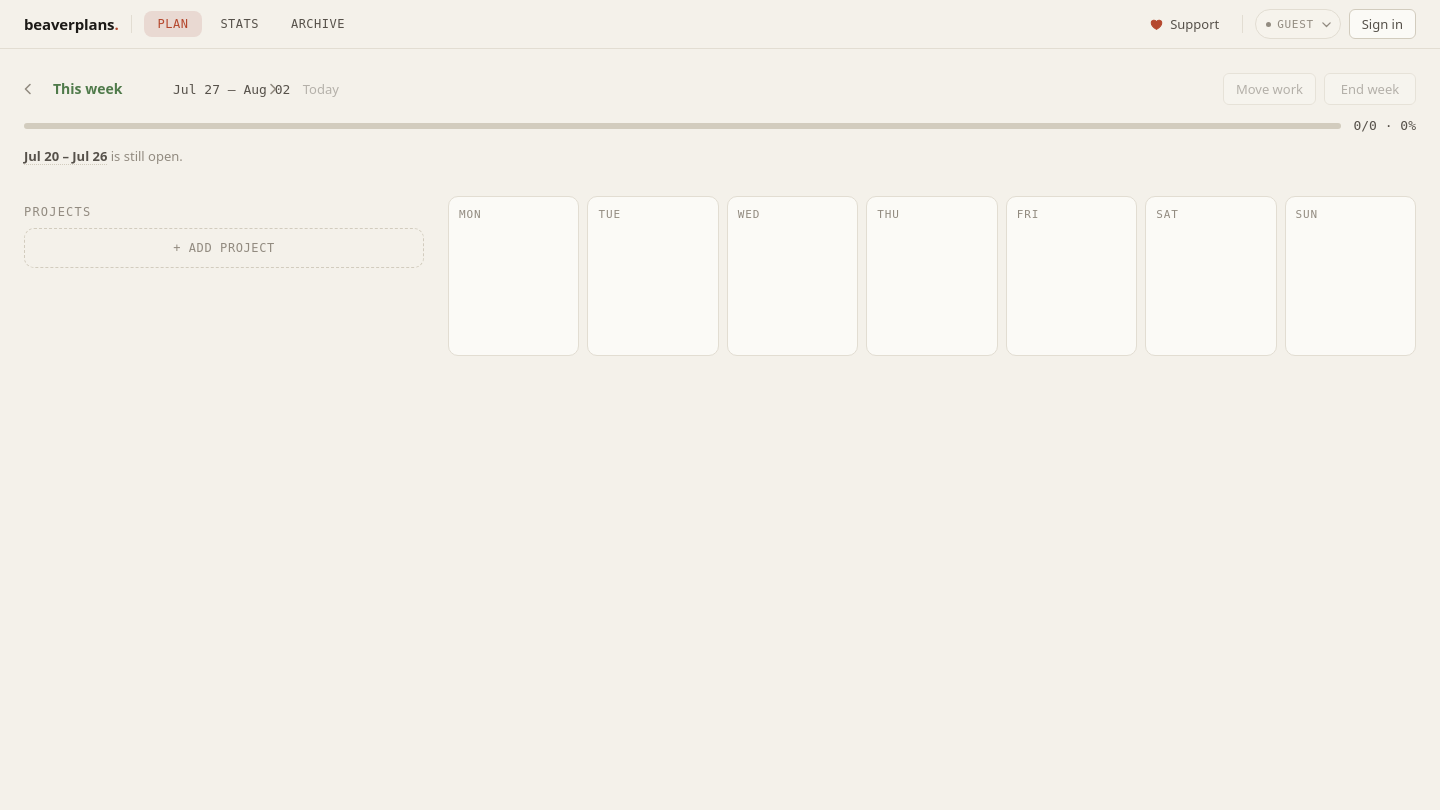
App under the weeks model › stepping back onto the earlier open week makes End week and Move live
Expected: the button with aria-label "Go to Jul 20" is shown, [24,147,107,167]
Click the button named "Previous week" at (28, 89), box [15,76,41,102]
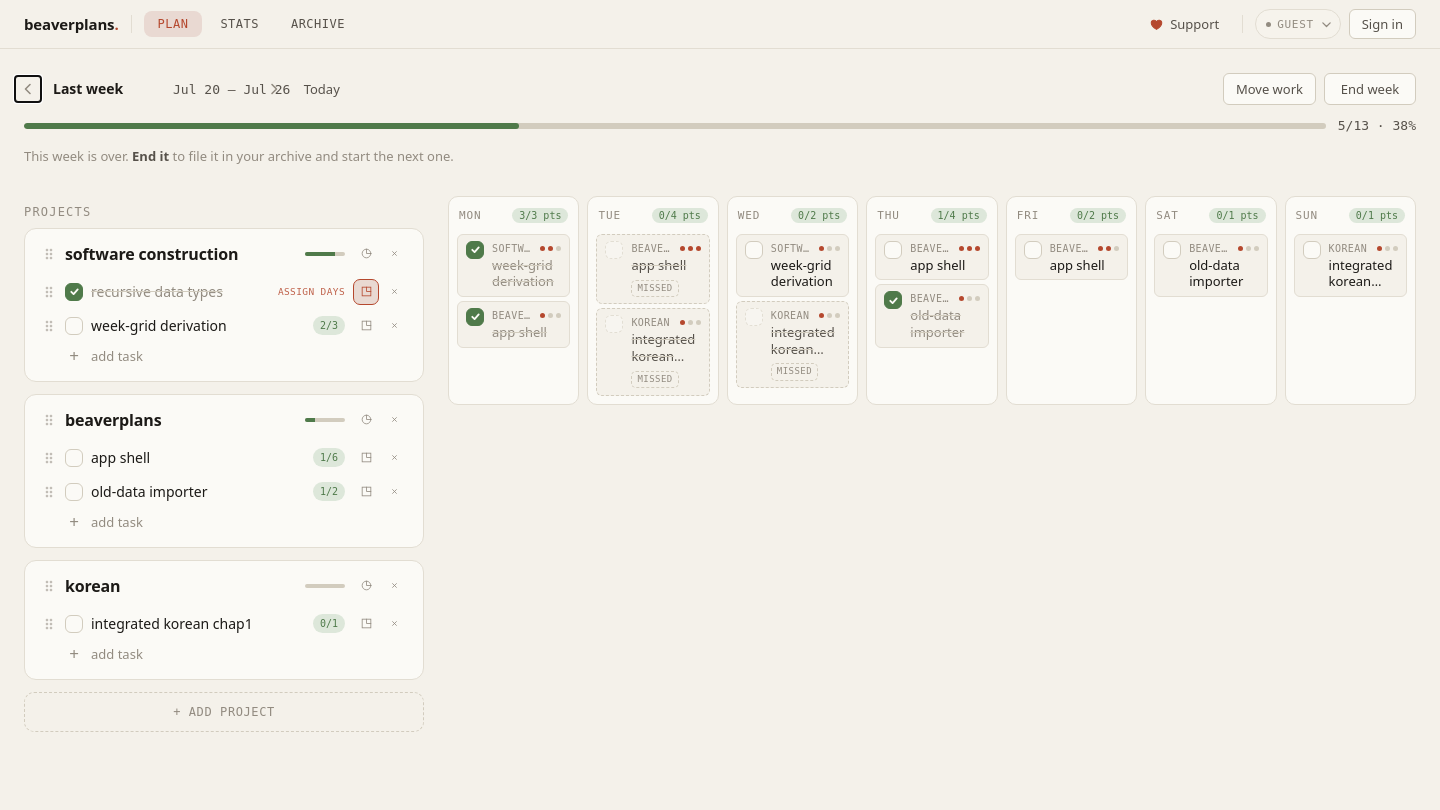
Expected: the button "End week" is enabled, [1324,73,1416,105]
Expected: the button "Move work" is enabled, [1223,73,1316,105]
